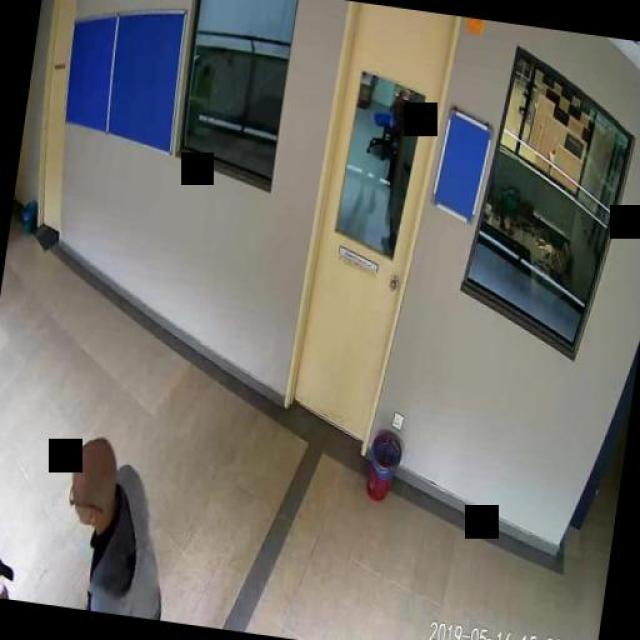gun: (0, 534, 16, 580)
